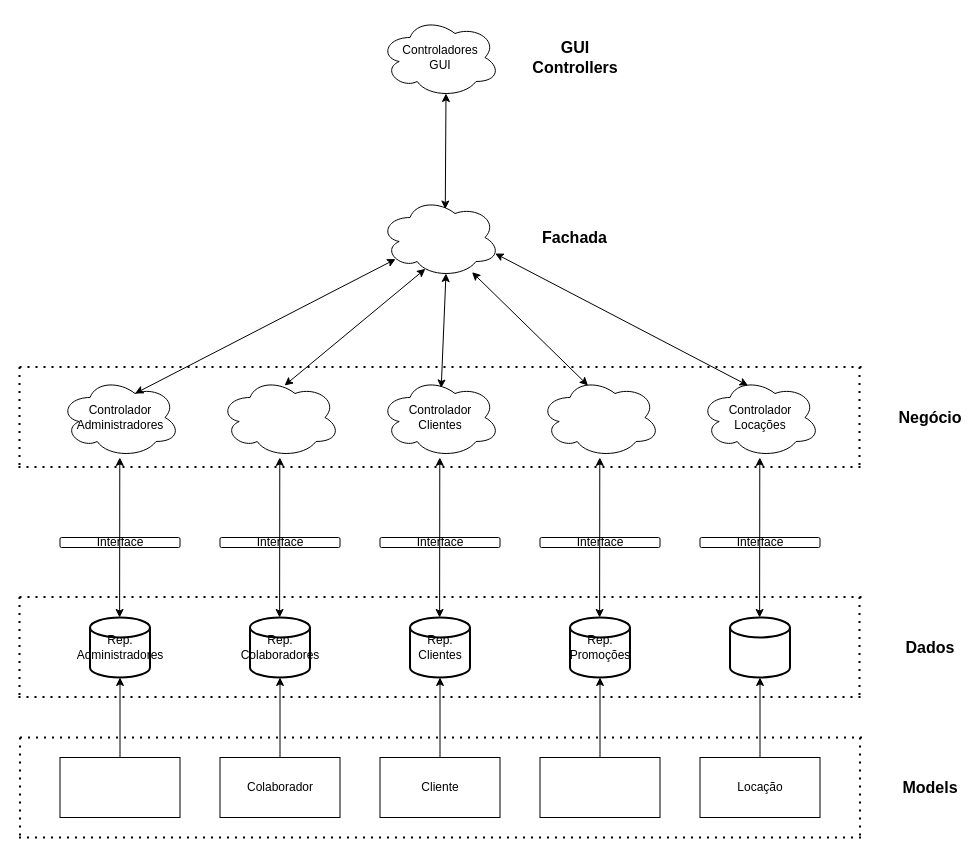
Some shapes in this 978 by 857 pixel diagram are drawn without their labels. Each missing label, with the box of its shape:
Administrador: (59, 756, 180, 818)
Controlador Colaboradores: (219, 376, 340, 458)
Controlador Promoções: (539, 376, 660, 458)
Promoção: (539, 756, 660, 818)
Rep. Locações: (728, 616, 790, 678)
Servidor Loocalize: (379, 196, 500, 278)
